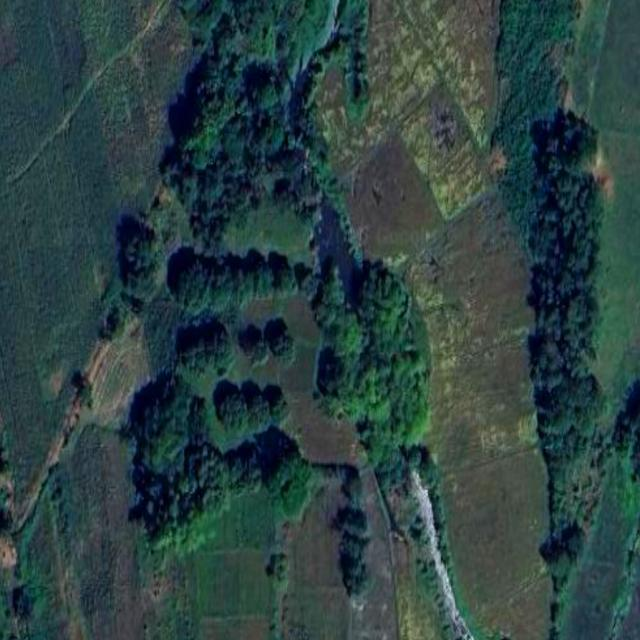Tree: (335, 342, 449, 464), (537, 372, 608, 447), (364, 259, 410, 355), (137, 378, 194, 448), (175, 327, 238, 375), (179, 98, 218, 166), (120, 216, 164, 274), (175, 254, 213, 317), (192, 443, 224, 514), (571, 184, 606, 247), (222, 439, 262, 494), (266, 446, 310, 496), (142, 434, 186, 480), (205, 68, 243, 120), (321, 349, 360, 396), (217, 387, 249, 439), (325, 307, 358, 357), (122, 263, 159, 305), (227, 266, 258, 314), (208, 259, 235, 313), (157, 482, 190, 524), (344, 551, 370, 603), (569, 132, 601, 174), (240, 327, 270, 368), (174, 166, 204, 207), (334, 506, 370, 540), (190, 0, 219, 41), (198, 207, 228, 246), (281, 475, 308, 518), (256, 116, 283, 158), (322, 261, 344, 311), (561, 326, 597, 356), (196, 167, 225, 204), (102, 303, 128, 344), (540, 484, 568, 521), (222, 122, 249, 160), (246, 389, 269, 432), (612, 407, 633, 454), (252, 264, 275, 306), (562, 298, 594, 328), (232, 0, 266, 28), (272, 332, 297, 370), (546, 443, 566, 490), (272, 258, 294, 300), (186, 400, 210, 438), (537, 339, 565, 371), (563, 522, 585, 562), (540, 307, 563, 345), (341, 467, 364, 504), (546, 552, 572, 583), (257, 76, 280, 110), (342, 530, 368, 560), (536, 271, 556, 310), (532, 368, 564, 392), (569, 242, 592, 275), (632, 394, 640, 488), (279, 144, 301, 178), (561, 112, 588, 139), (555, 265, 577, 298), (270, 384, 291, 418), (273, 547, 293, 582), (557, 182, 578, 215), (299, 268, 318, 304), (558, 147, 578, 179), (541, 132, 562, 162), (276, 190, 297, 217), (544, 157, 564, 184), (313, 304, 334, 329), (564, 422, 580, 454), (542, 205, 562, 228), (552, 236, 568, 263), (562, 212, 576, 234), (546, 253, 561, 273), (575, 187, 590, 206), (174, 0, 203, 9)
